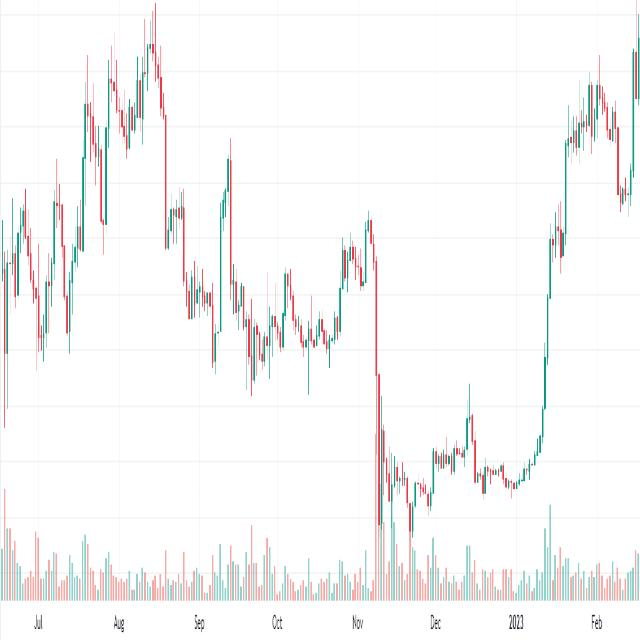Channel-up: (1, 0, 179, 440)
Descending-Triangle: (281, 249, 349, 359)
Triangle: (181, 256, 223, 335)
